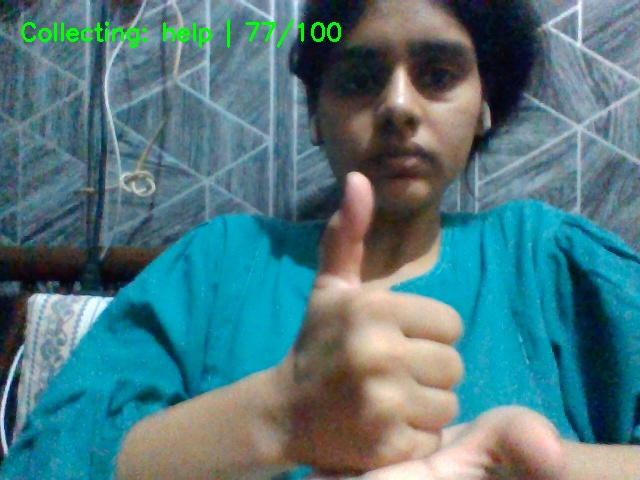help: (288, 168, 573, 480)
